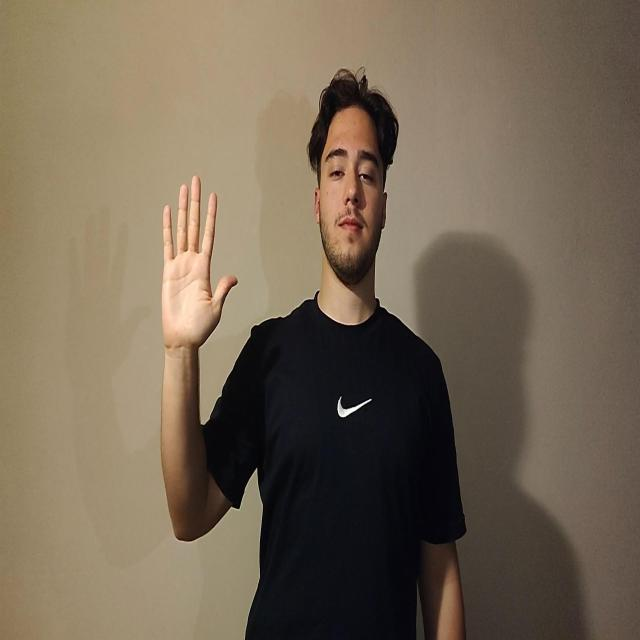hello: (160, 174, 238, 352)
